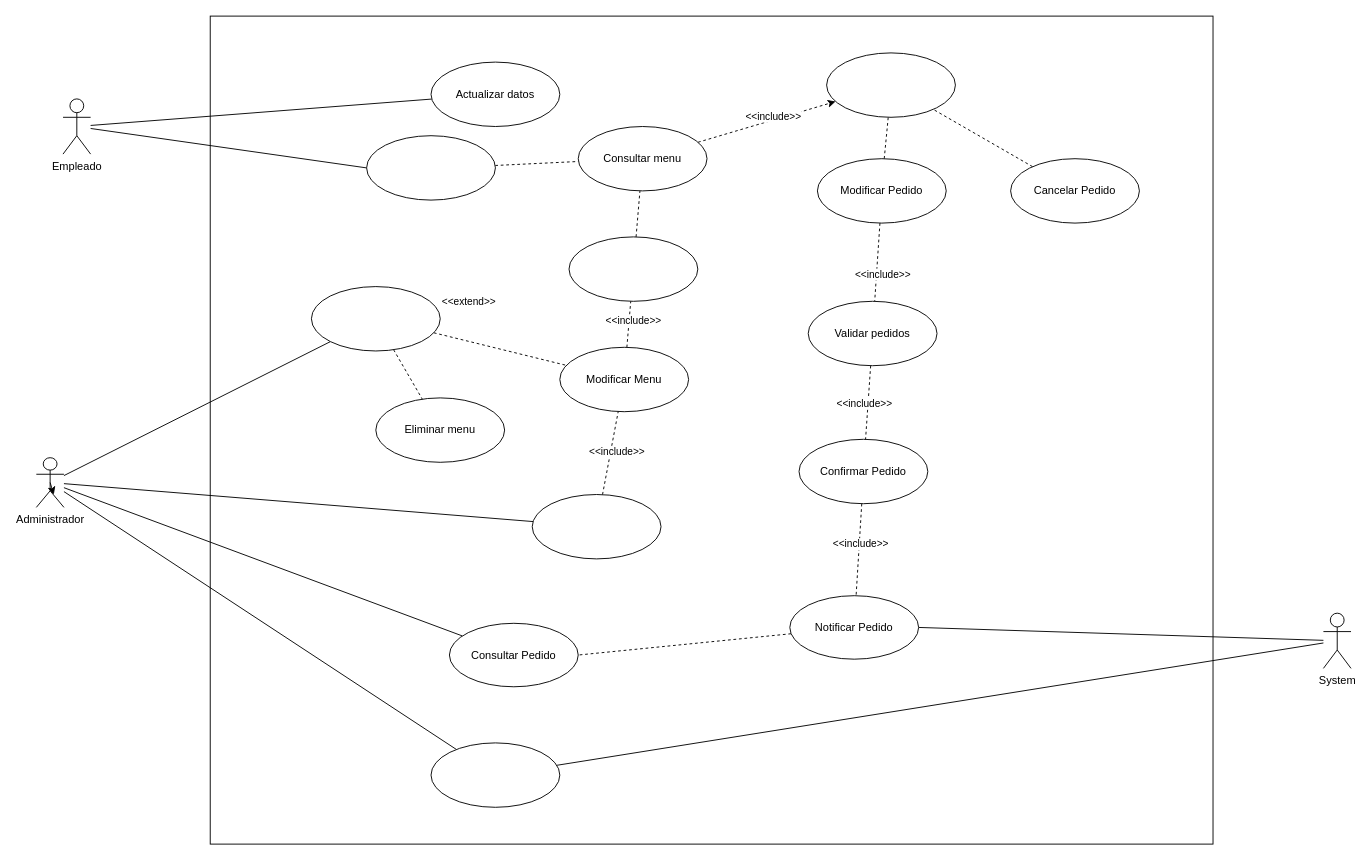
This 1371x860 diagram has some shape labels left out. The box of each missing label's shape, as (x1, y1, x2, y2) in pixels:
Agregar Borrador: (310, 286, 440, 351)
Configurar asistencia: (366, 135, 495, 200)
Confirmar Menu: (568, 236, 698, 301)
Consolidado Diario: (430, 742, 560, 807)
Realizar Pedido: (826, 52, 955, 117)
Verificar Disponibilidad: (531, 494, 661, 559)
